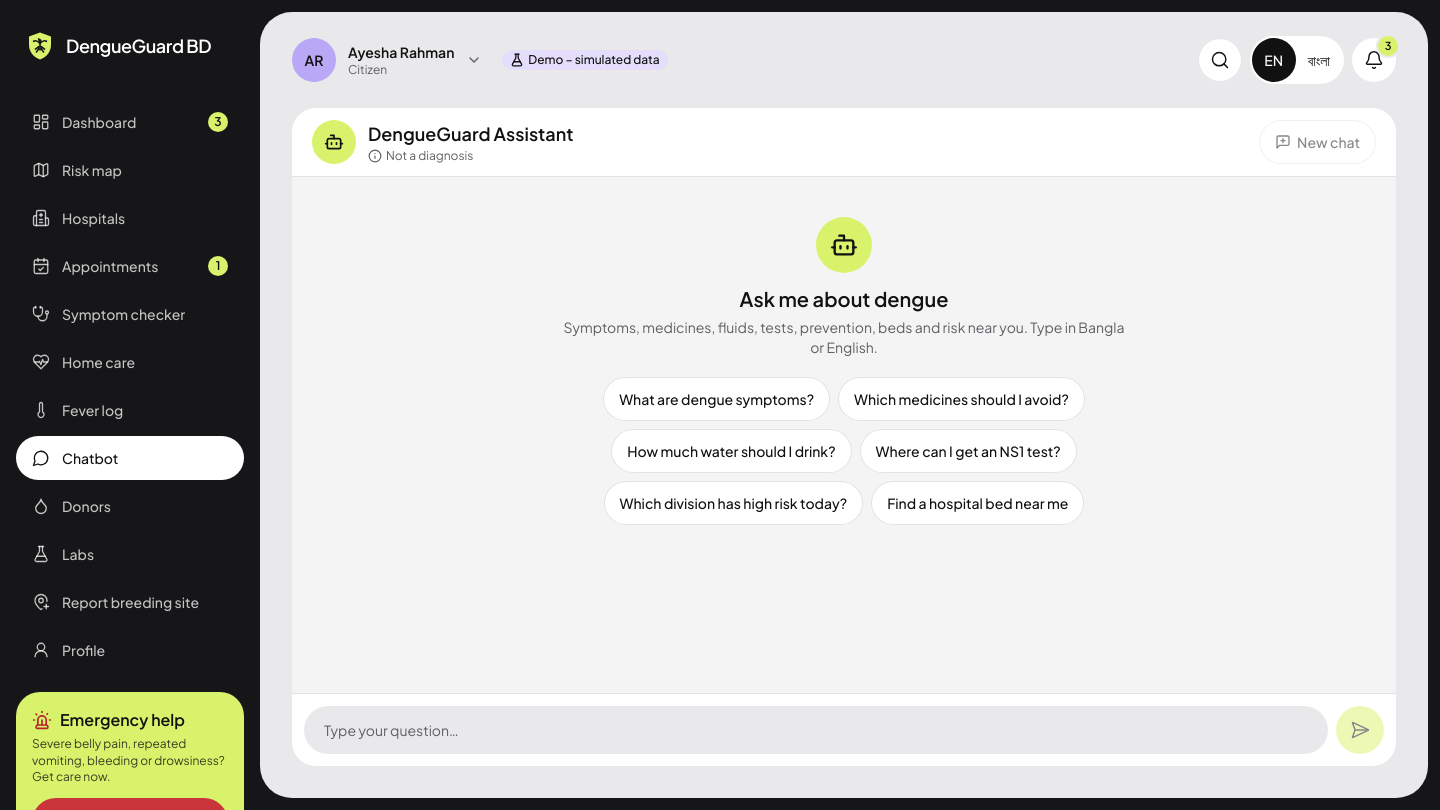
Test: Chatbot (/chatbot) › shows hospital and risk results as cards
The image size is (1440, 810).
Click the button "Find a hospital bed near me" at (978, 503), box [871,481,1084,525]
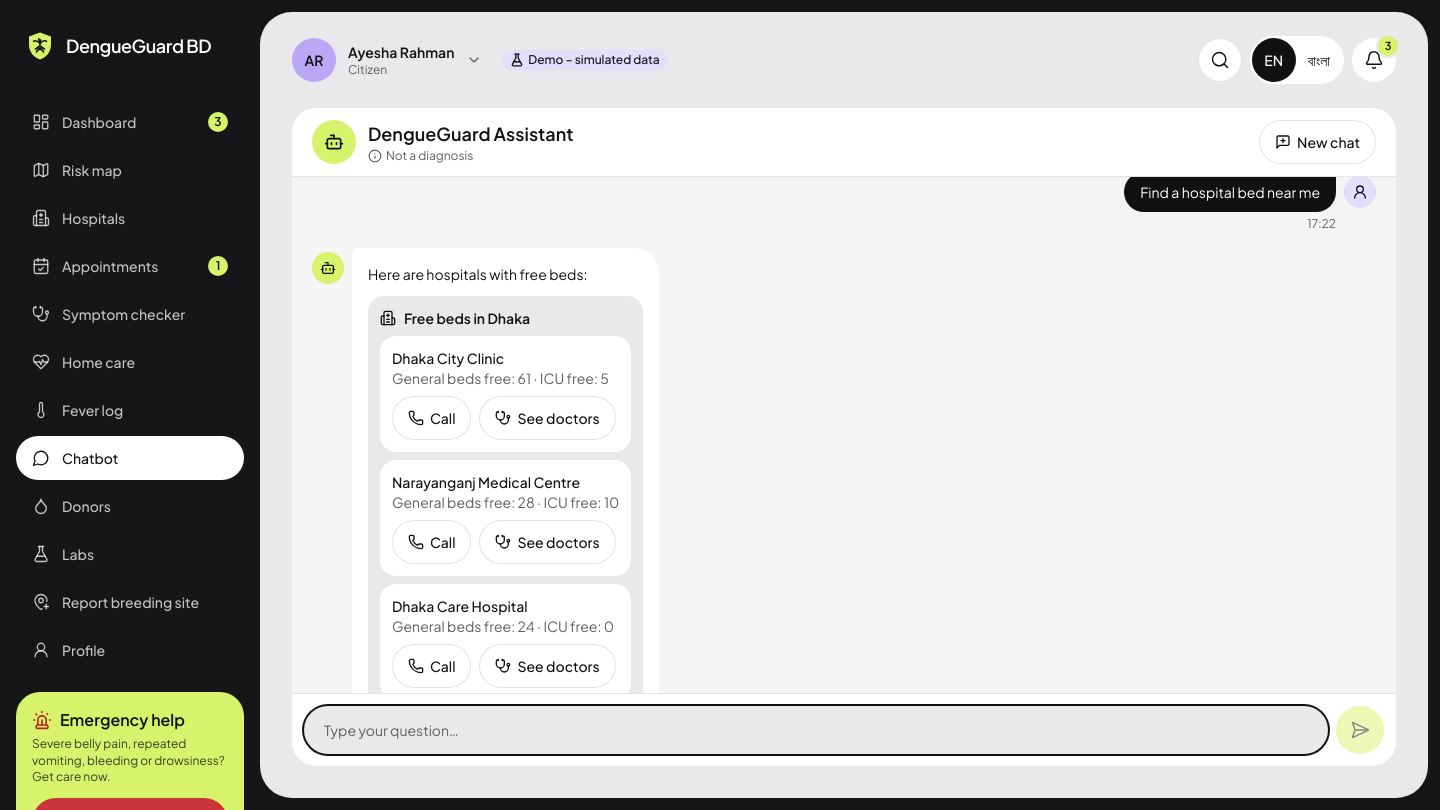
Expected: the number of links "See doctors" is 3, [480,396,616,440]; [480,520,616,564]; [480,644,616,688]
Expected: the text "General beds free: 61 · ICU free: 5" is shown 3 times, [392,368,619,388]; [392,492,619,512]; [392,616,619,636]
Type "Which division has high risk today?" into the field labelled "your question" at (816, 730), box [304,706,1328,754]
Then press Enter
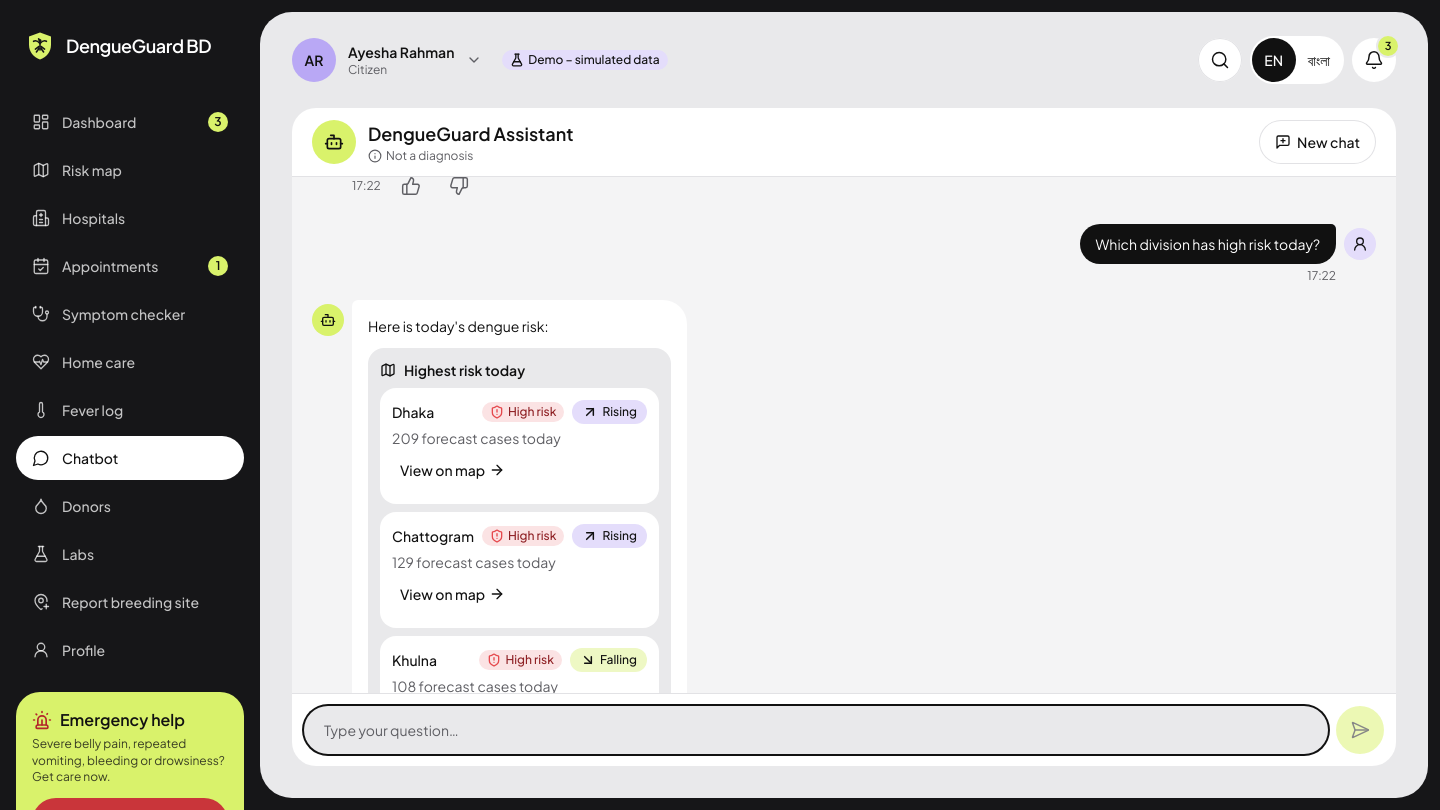
Expected: the text "High risk" next to "Dhaka" is shown, [508,404,556,419]
